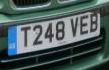2: (32, 24, 43, 46)
4: (44, 22, 55, 44)
8: (55, 20, 66, 41)
B: (90, 13, 99, 33)
E: (80, 14, 89, 35)
T: (20, 25, 31, 48)
V: (69, 17, 79, 38)
